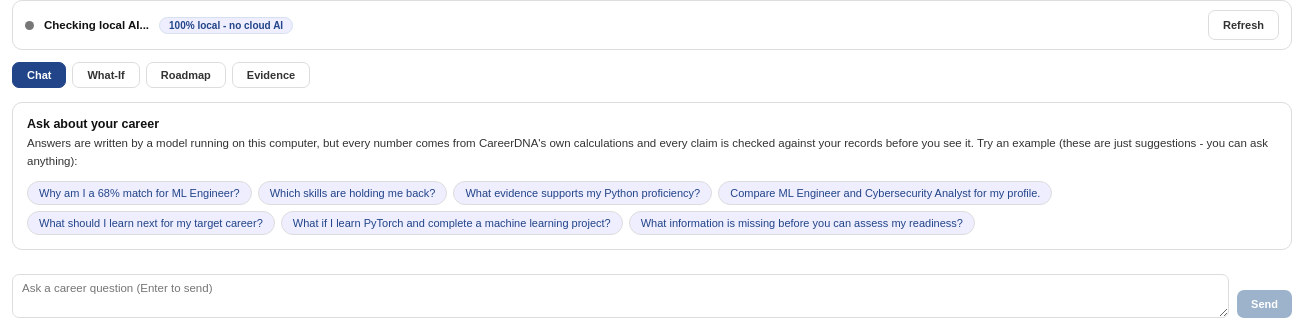
chat › shows a network/auth error without crashing
Click the button "Which skills are holding me back?": (353, 193) [258,181,447,205]
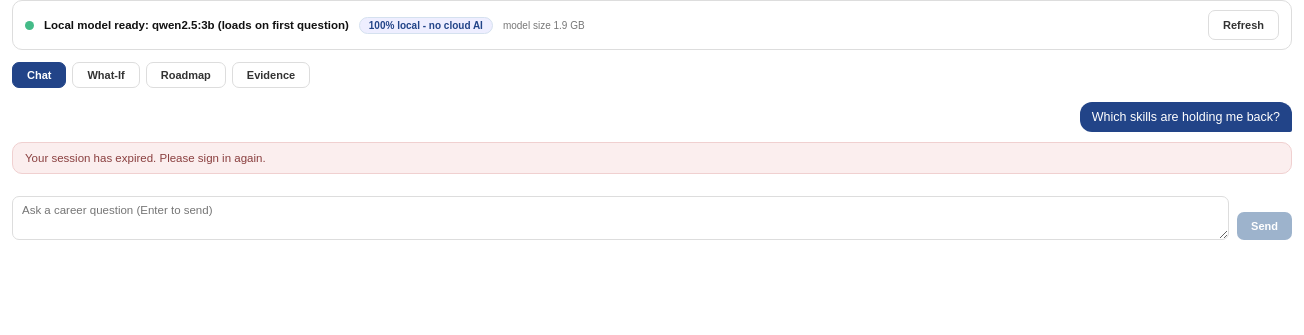
Now the text "Your session has expired. Please sign in again." is shown, box [12,142,1292,174]
